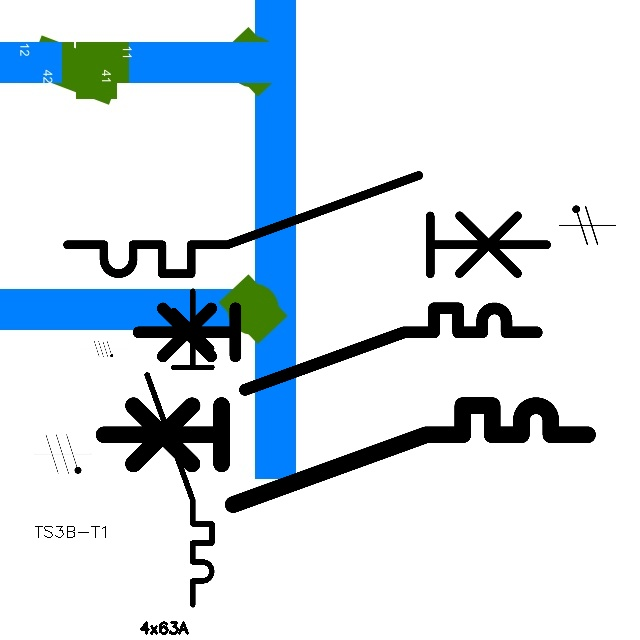interruptor_termomagnetico: (91, 393, 600, 517), (55, 163, 559, 286), (128, 298, 547, 400), (139, 283, 220, 613)
